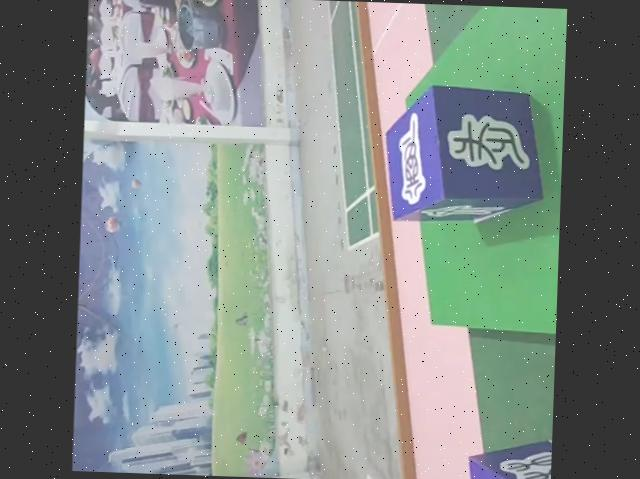R2 Fake Blue: (384, 83, 549, 226), (467, 433, 552, 479)
